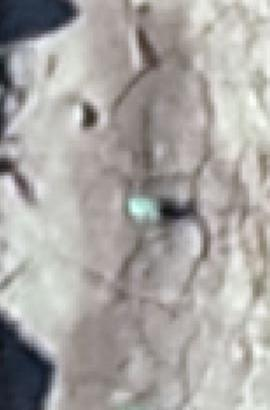cotton: (132, 196, 158, 220)
